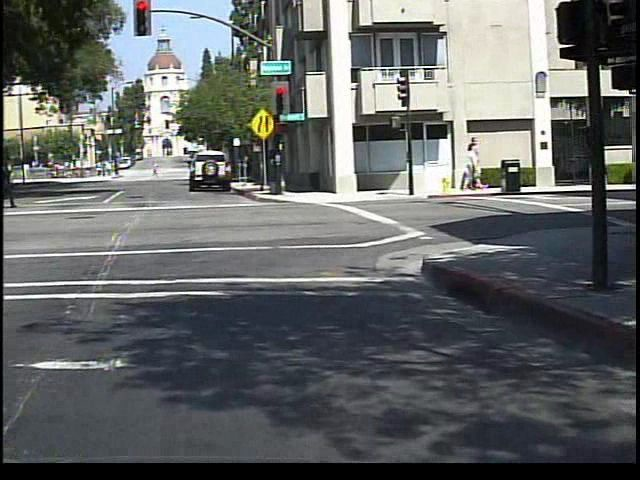person: (7, 167, 36, 224), (4, 160, 23, 212), (155, 161, 164, 179)
